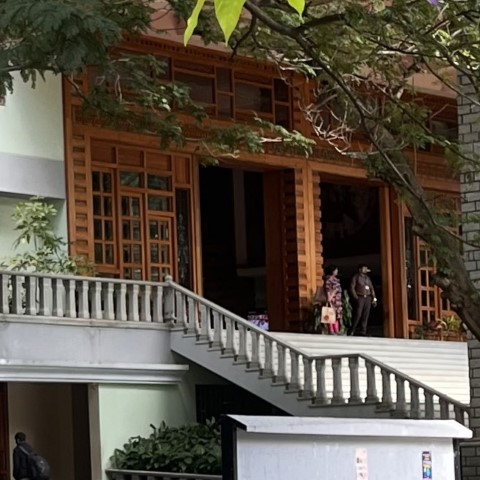Central Block: (1, 62, 480, 480)
